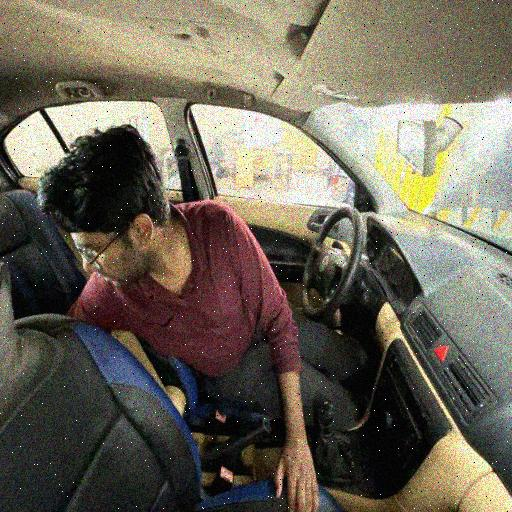Reaching_behind: (32, 117, 334, 442)
